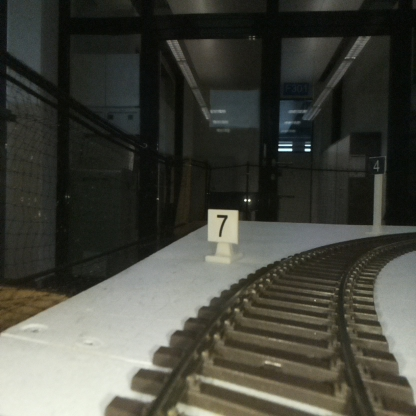black-info-4: (369, 156, 384, 236)
white-stop-7: (208, 210, 237, 259)
